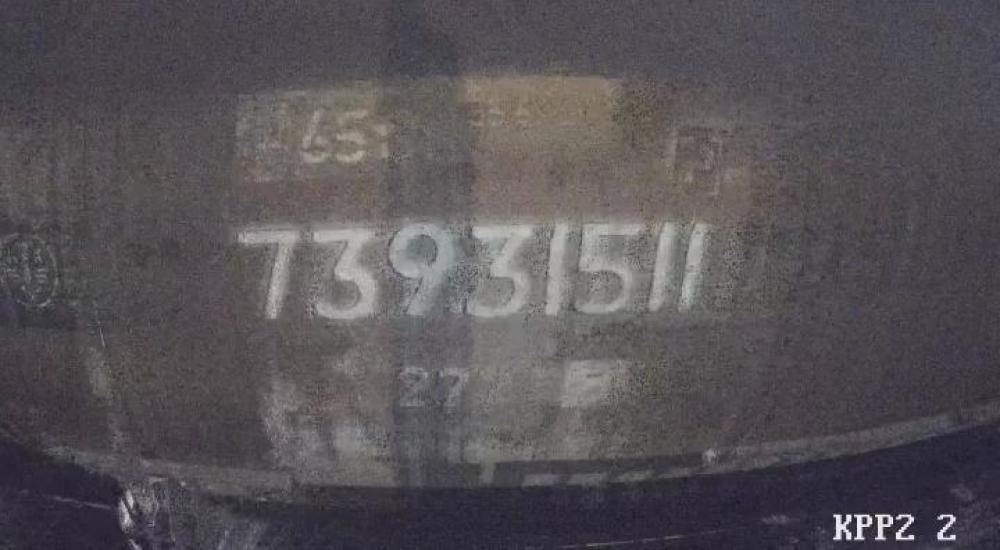Wagon-number: (231, 214, 716, 329)
